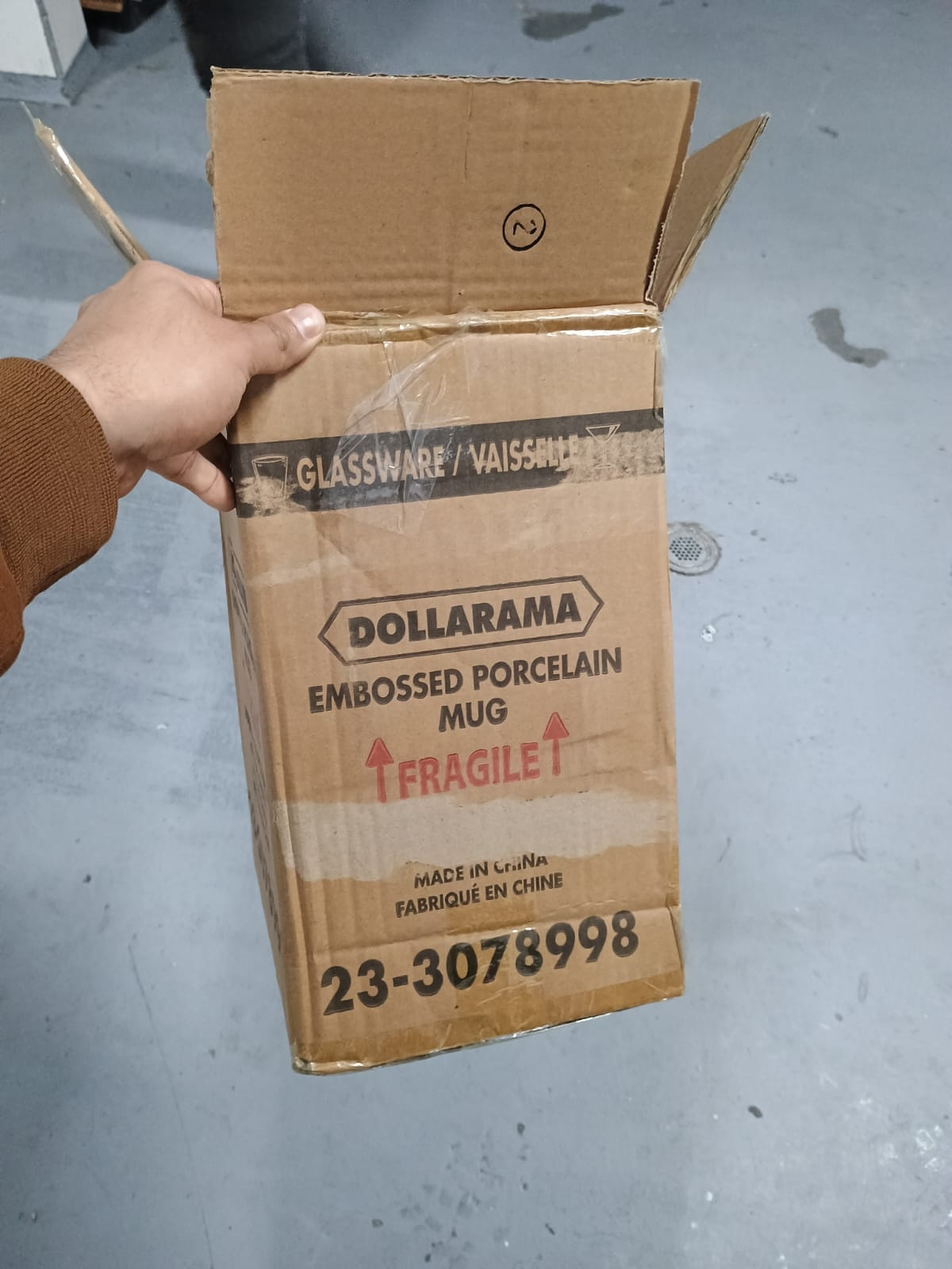Carton: (216, 71, 694, 1076)
